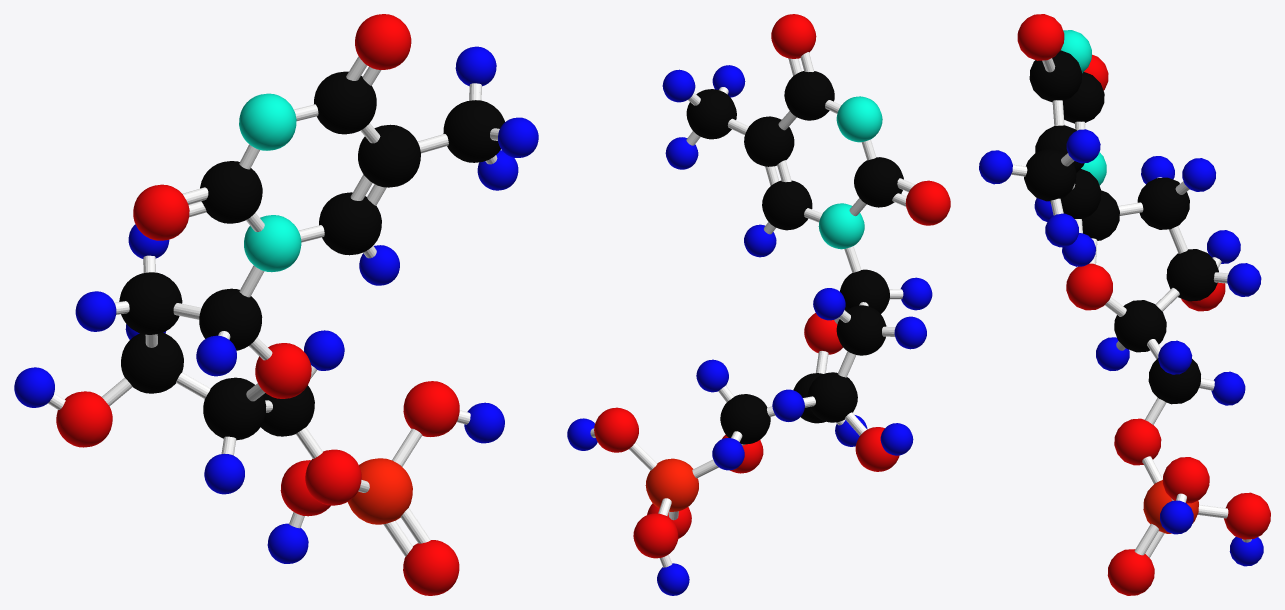
File: desoxitimidina.obj
3 renders of one model, left to right at view 1: azimuth 30°, elevation 25°; view 2: azimuth 150°, elevation 25°; view 3: azimuth 270°, elevation 25°, orthographic. The views are drawn at different scales.
Parts seen in each view (by area): view 1: fosforo_Shape_Sphere.001, carbono.002_Shape_Sphere.022, carbono.004_Shape_Sphere.024, carbono_Shape_Sphere.025, carbono.003_Shape_Sphere.021, carbono.006_Shape_Sphere.013, carbono.007_Shape_Sphere.009, carbono.008_Shape_Sphere.012, carbono.001_Shape_Sphere.026, carbono.005_Shape_Sphere.014, nitrogenio.001_Shape_Sphere.030, oxigenio.003_Shape_Sphere.031 (+21 smaller); view 2: fosforo_Shape_Sphere.001, carbono.003_Shape_Sphere.021, carbono.002_Shape_Sphere.022, carbono_Shape_Sphere.025, carbono.008_Shape_Sphere.012, carbono.004_Shape_Sphere.024, carbono.009_Shape_Sphere.008, carbono.006_Shape_Sphere.013, carbono.001_Shape_Sphere.026, nitrogenio.001_Shape_Sphere.030, oxigenio.007_Shape_Sphere.004, oxigenio.003_Shape_Sphere.031 (+21 smaller); view 3: carbono.008_Shape_Sphere.012, carbono.006_Shape_Sphere.013, carbono.001_Shape_Sphere.026, carbono.007_Shape_Sphere.009, carbono_Shape_Sphere.025, oxigenio.001_Shape_Sphere.032, oxigenio.002_Shape_Sphere.017, oxigenio.006_Shape_Sphere.007, oxigenio.007_Shape_Sphere.004, oxigenio.004_Shape_Sphere.006, oxigenio.005_Shape_Sphere.002, carbono.009_Shape_Sphere.008 (+22 smaller).
Boxes of the visible parts, left/top/right/bottom form: fosforo_Shape_Sphere.001: left=348, top=458, right=412, bottom=524; carbono.002_Shape_Sphere.022: left=358, top=124, right=420, bottom=187; carbono.004_Shape_Sphere.024: left=200, top=161, right=262, bottom=223; carbono_Shape_Sphere.025: left=314, top=71, right=376, bottom=134; carbono.003_Shape_Sphere.021: left=319, top=192, right=381, bottom=255; carbono.006_Shape_Sphere.013: left=119, top=272, right=182, bottom=334; carbono.007_Shape_Sphere.009: left=203, top=377, right=266, bottom=440; carbono.008_Shape_Sphere.012: left=121, top=332, right=183, bottom=393; carbono.001_Shape_Sphere.026: left=443, top=100, right=504, bottom=162; carbono.005_Shape_Sphere.014: left=199, top=288, right=262, bottom=350; nitrogenio.001_Shape_Sphere.030: left=239, top=93, right=296, bottom=150; oxigenio.003_Shape_Sphere.031: left=133, top=184, right=189, bottom=240; fosforo_Shape_Sphere.001: left=645, top=458, right=698, bottom=511; carbono.003_Shape_Sphere.021: left=762, top=180, right=812, bottom=230; carbono.002_Shape_Sphere.022: left=744, top=116, right=794, bottom=166; carbono_Shape_Sphere.025: left=784, top=71, right=834, bottom=120; carbono.008_Shape_Sphere.012: left=807, top=372, right=857, bottom=422; carbono.004_Shape_Sphere.024: left=854, top=157, right=903, bottom=207; carbono.009_Shape_Sphere.008: left=720, top=394, right=770, bottom=444; carbono.006_Shape_Sphere.013: left=836, top=305, right=886, bottom=355; carbono.001_Shape_Sphere.026: left=686, top=89, right=736, bottom=139; nitrogenio.001_Shape_Sphere.030: left=836, top=96, right=882, bottom=142; oxigenio.007_Shape_Sphere.004: left=633, top=513, right=678, bottom=558; oxigenio.003_Shape_Sphere.031: left=905, top=180, right=950, bottom=225; carbono.008_Shape_Sphere.012: left=1166, top=249, right=1218, bottom=301; carbono.006_Shape_Sphere.013: left=1137, top=177, right=1189, bottom=229; carbono.001_Shape_Sphere.026: left=1024, top=149, right=1076, bottom=201; carbono.007_Shape_Sphere.009: left=1114, top=300, right=1166, bottom=352; carbono_Shape_Sphere.025: left=1029, top=50, right=1081, bottom=102; oxigenio.001_Shape_Sphere.032: left=1017, top=14, right=1064, bottom=60; oxigenio.002_Shape_Sphere.017: left=1066, top=263, right=1112, bottom=310; oxigenio.006_Shape_Sphere.007: left=1107, top=549, right=1154, bottom=595; oxigenio.007_Shape_Sphere.004: left=1224, top=492, right=1270, bottom=539; oxigenio.004_Shape_Sphere.006: left=1114, top=418, right=1161, bottom=465; oxigenio.005_Shape_Sphere.002: left=1163, top=457, right=1209, bottom=503; carbono.009_Shape_Sphere.008: left=1148, top=358, right=1200, bottom=404.
Size of the model in its own units: 8.49 by 11.41 by 5.62.
